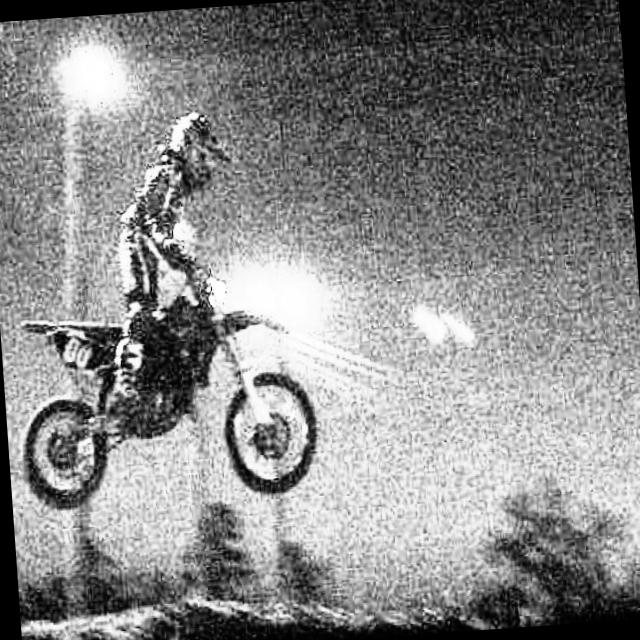Motorcycle: (0, 269, 367, 536)
Person: (100, 72, 229, 430)
